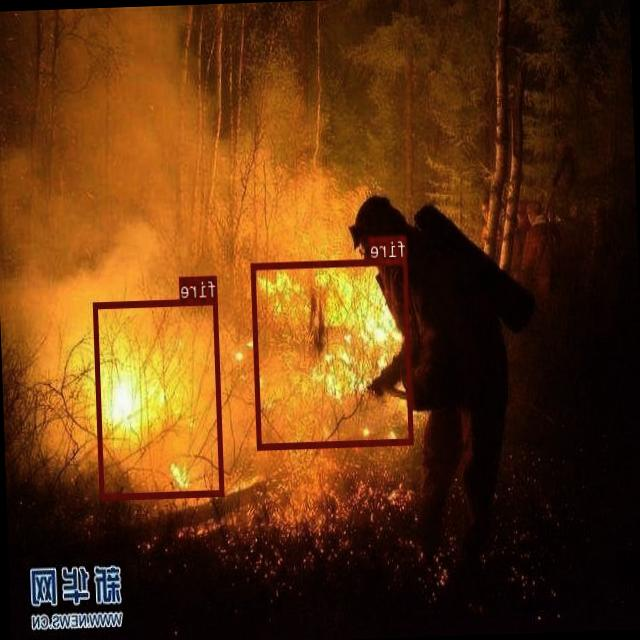fire: (252, 256, 414, 449), (94, 297, 225, 498)
